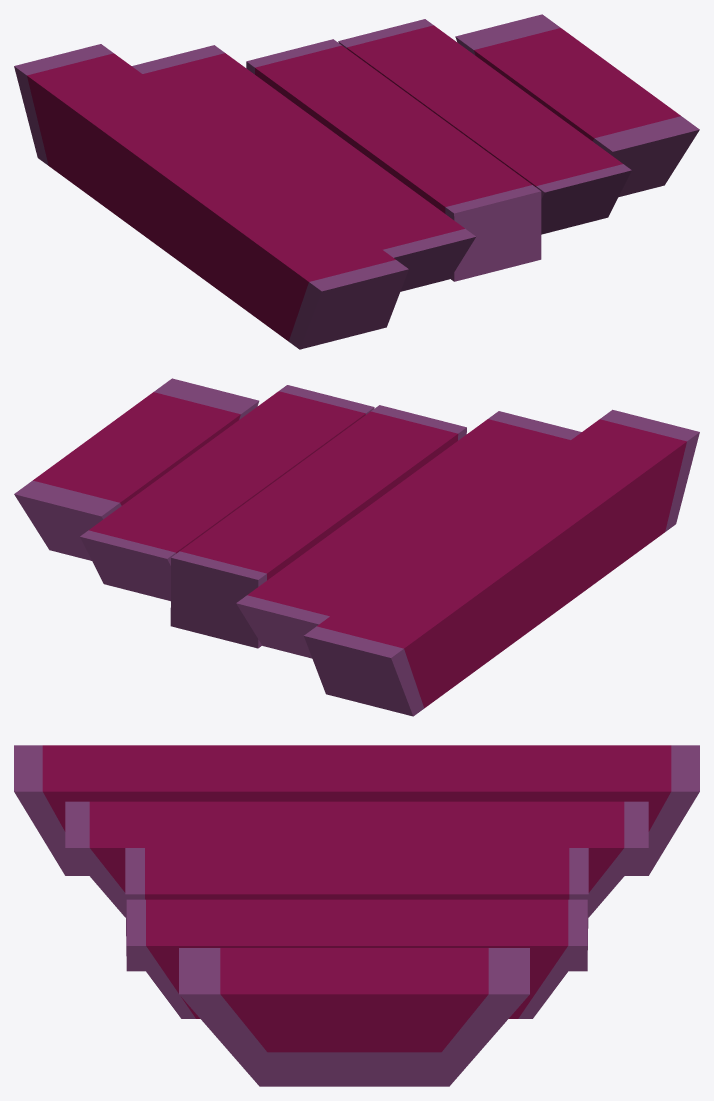
The model's file is GravityMeat_FryingPan_Ready.fbx.
3 renders of one model, top to bottom at view 1: azimuth 30°, elevation 25°; view 2: azimuth 150°, elevation 25°; view 3: azimuth 270°, elevation 25°, orthographic. The views are drawn at different scales.
Parts seen in each view (by area): view 1: GravityMeat_FryingPan_Ready; view 2: GravityMeat_FryingPan_Ready; view 3: GravityMeat_FryingPan_Ready.
Boxes of the visible parts, x1,y1,x2,y2 form: GravityMeat_FryingPan_Ready: (14,14,699,349); GravityMeat_FryingPan_Ready: (14,378,699,716); GravityMeat_FryingPan_Ready: (14,745,699,1086).
Bounding box in the file's own units: 29.38 × 34.59 × 5.41.
